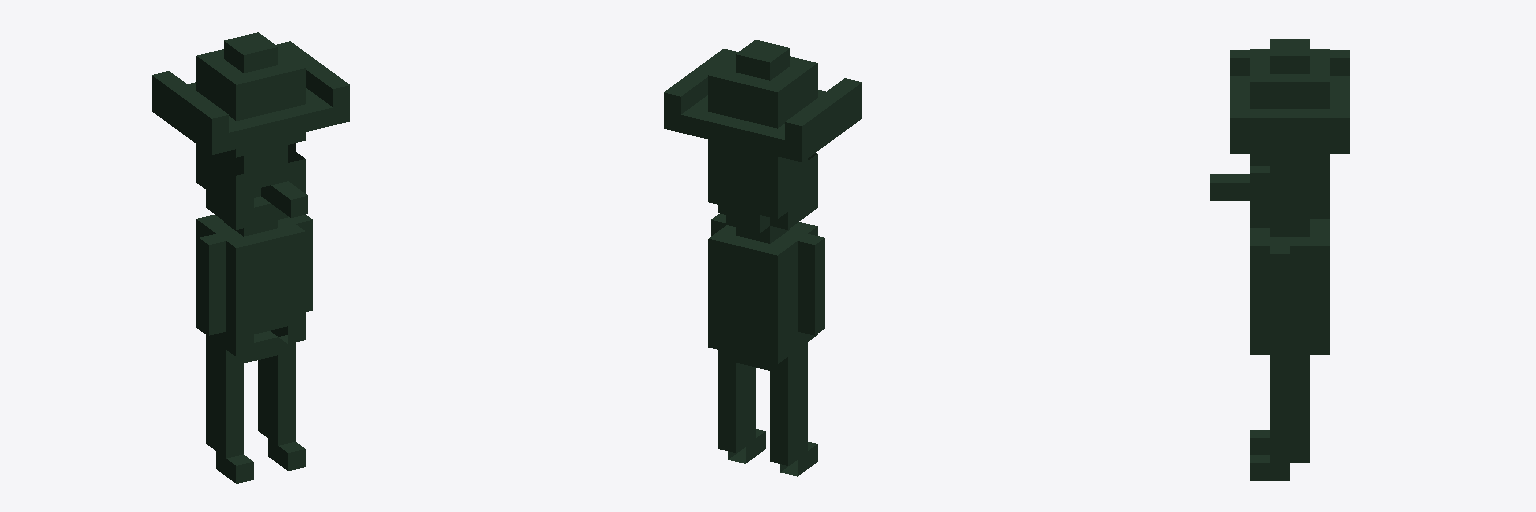
The picture shows the model from 3 angles: view 1: azimuth 30°, elevation 25°; view 2: azimuth 150°, elevation 25°; view 3: azimuth 270°, elevation 25°; orthographic projection.
Parts seen in each view (by area): view 1: cowboy; view 2: cowboy; view 3: cowboy.
Boxes of the visible parts, <box> form: cowboy: <box>152,32,349,483</box>; cowboy: <box>664,40,861,476</box>; cowboy: <box>1210,39,1349,480</box>.
Size of the model in its own units: 8 by 23 by 7.
1 materials, 1 textured.